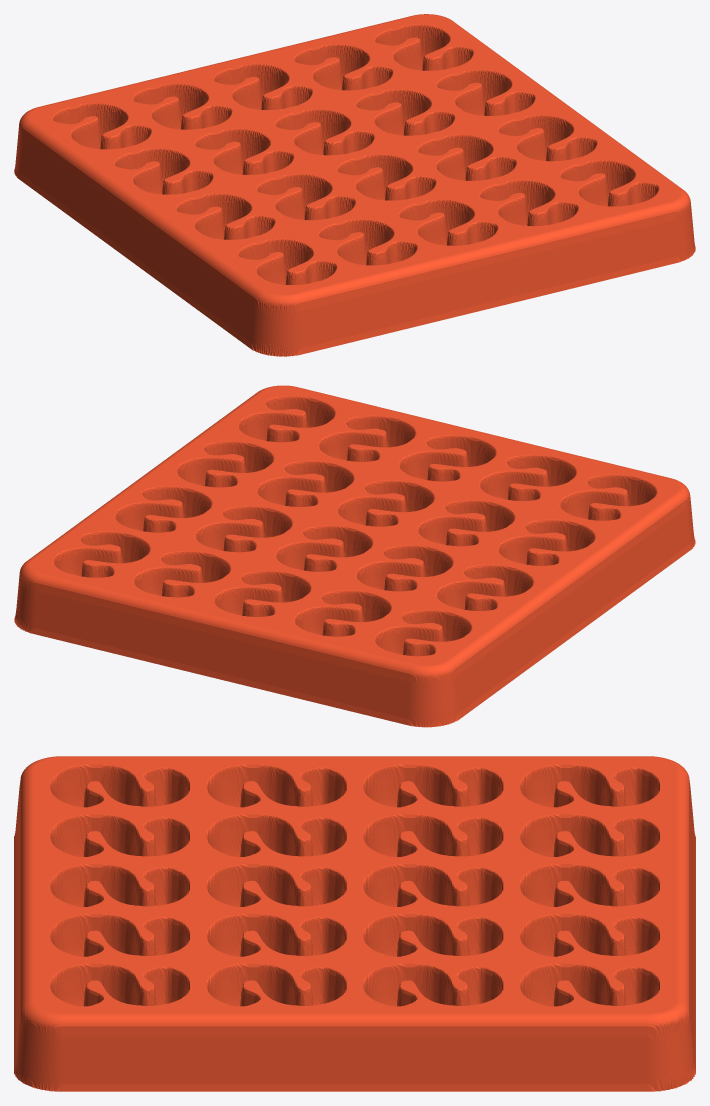
File: mold.glb
3 views of the same model, one above another, from view 1: azimuth 30°, elevation 25°; view 2: azimuth 150°, elevation 25°; view 3: azimuth 270°, elevation 25° (orthographic). The views are drawn at different scales.
Parts seen in each view (by area): view 1: geometry_0; view 2: geometry_0; view 3: geometry_0.
Part boxes in pixels (<box>): geometry_0: <box>14,14,695,356</box>; geometry_0: <box>14,385,695,727</box>; geometry_0: <box>14,756,695,1091</box>.
Bounding box in the file's own units: 0.1207 × 0.0145 × 0.1278.
